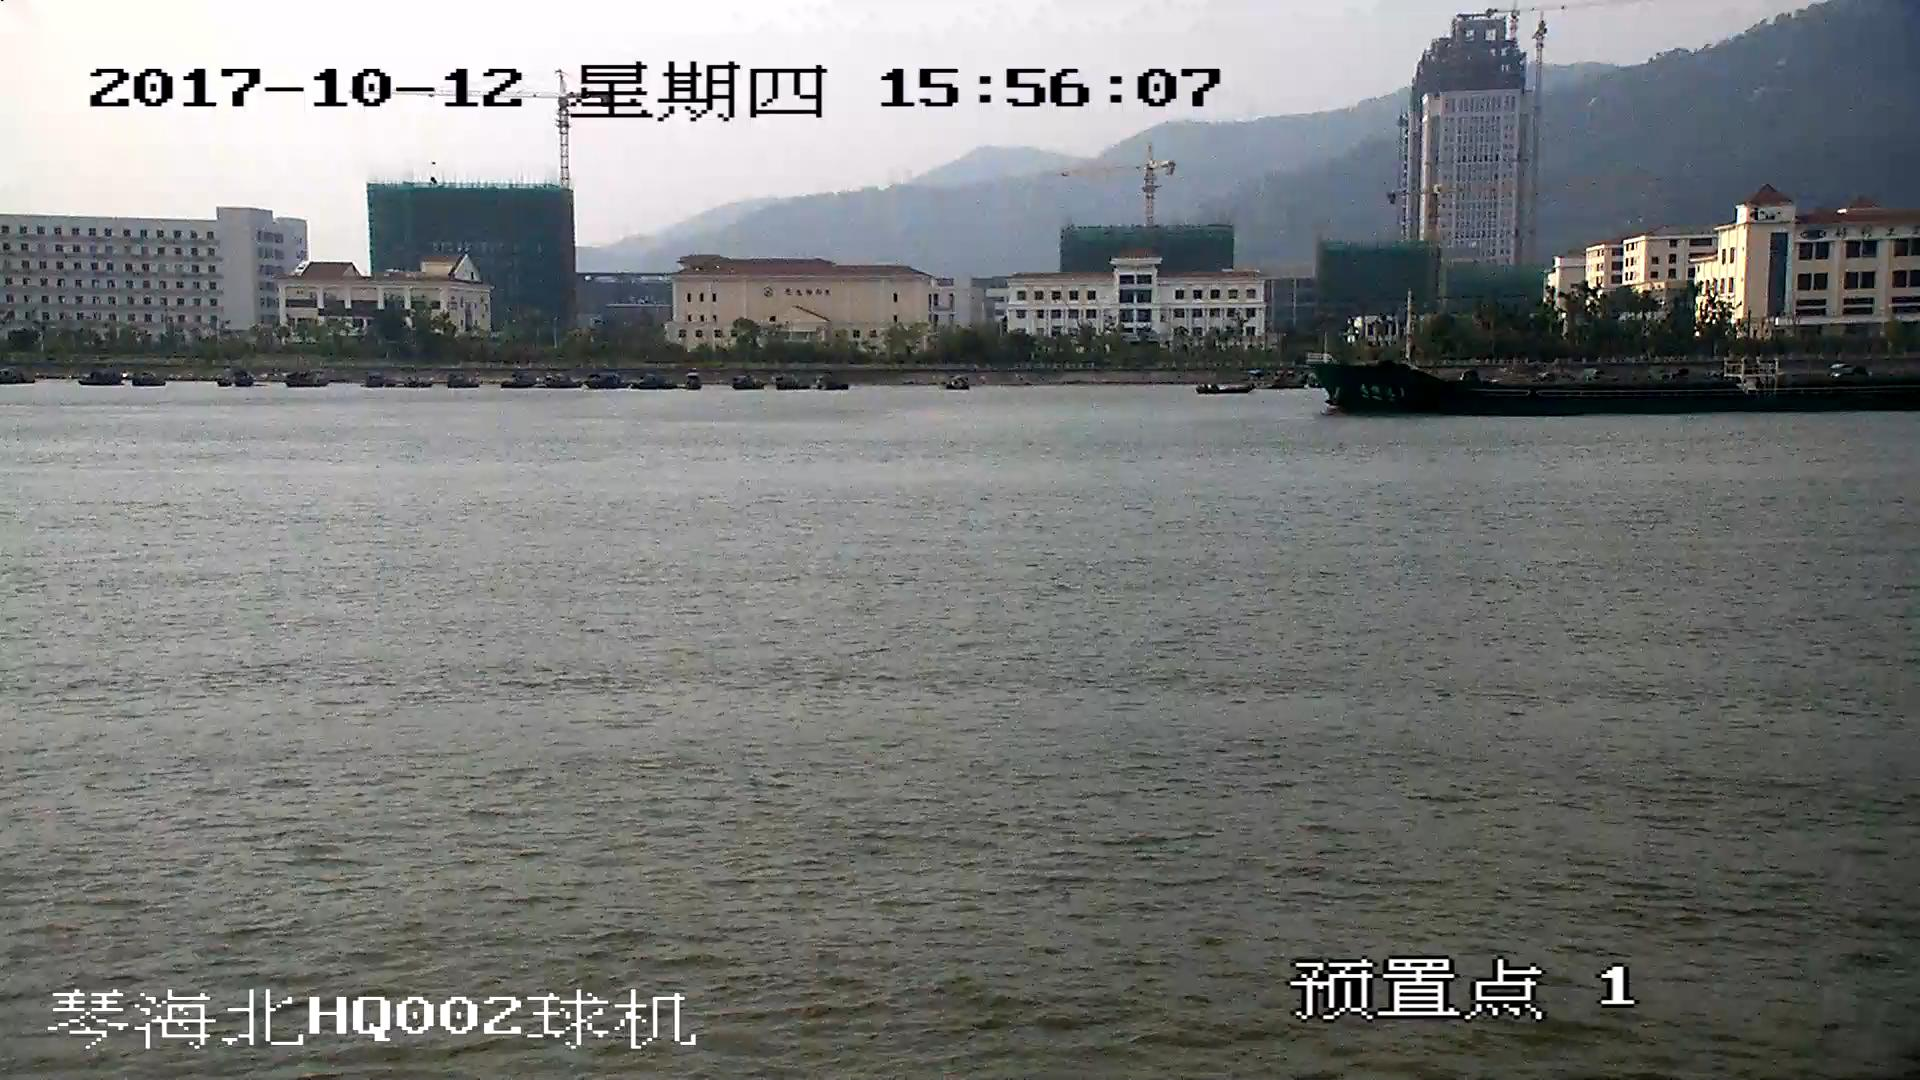general cargo ship: (1314, 318, 1920, 412)
